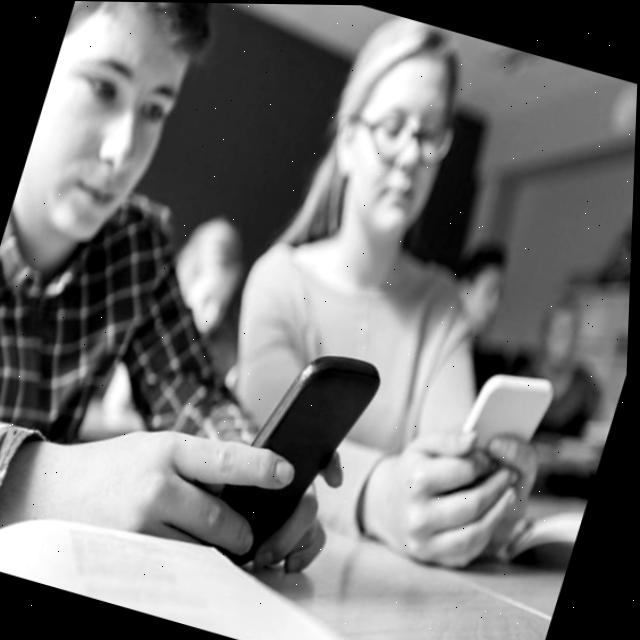phone: (199, 327, 398, 589), (457, 356, 564, 469)
